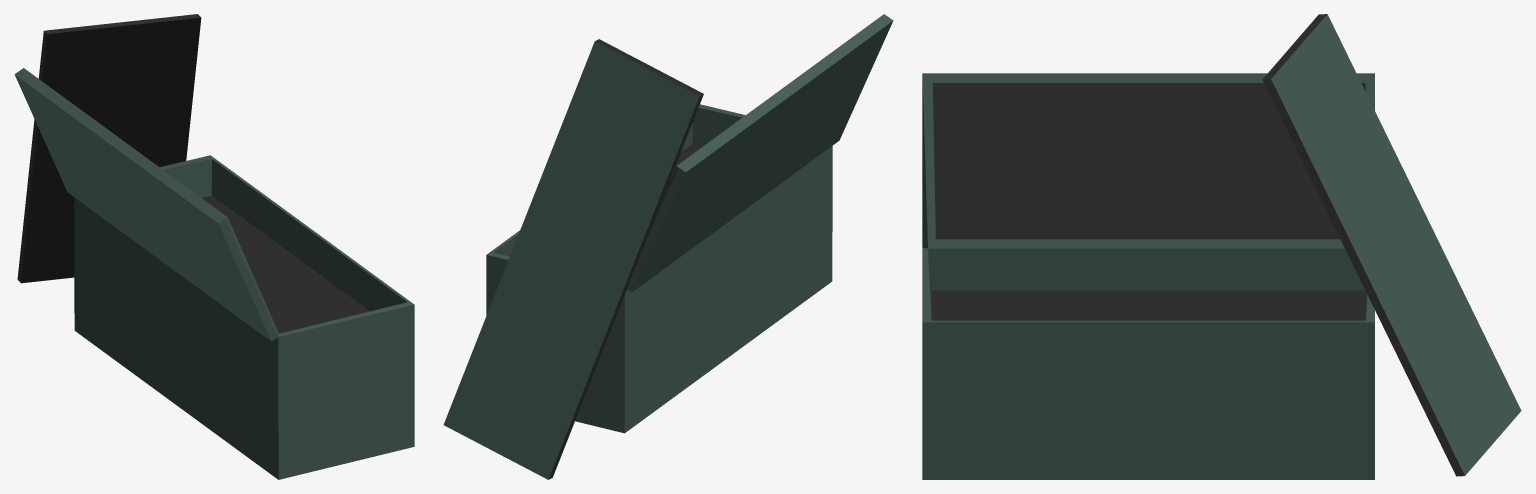
Rendered from grenade_stash.glb.
3 renders of one model, left to right at view 1: azimuth 30°, elevation 25°; view 2: azimuth 150°, elevation 25°; view 3: azimuth 270°, elevation 25°, orthographic. The views are drawn at different scales.
Parts seen in each view (by area): view 1: Cube; view 2: Cube; view 3: Cube.
Boxes of the visible parts, x1,y1,x2,y2 form: Cube: (14,14,414,479); Cube: (443,14,893,479); Cube: (922,14,1521,479).
Bounding box in the file's own units: 0.7268 × 1.17 × 1.72.
